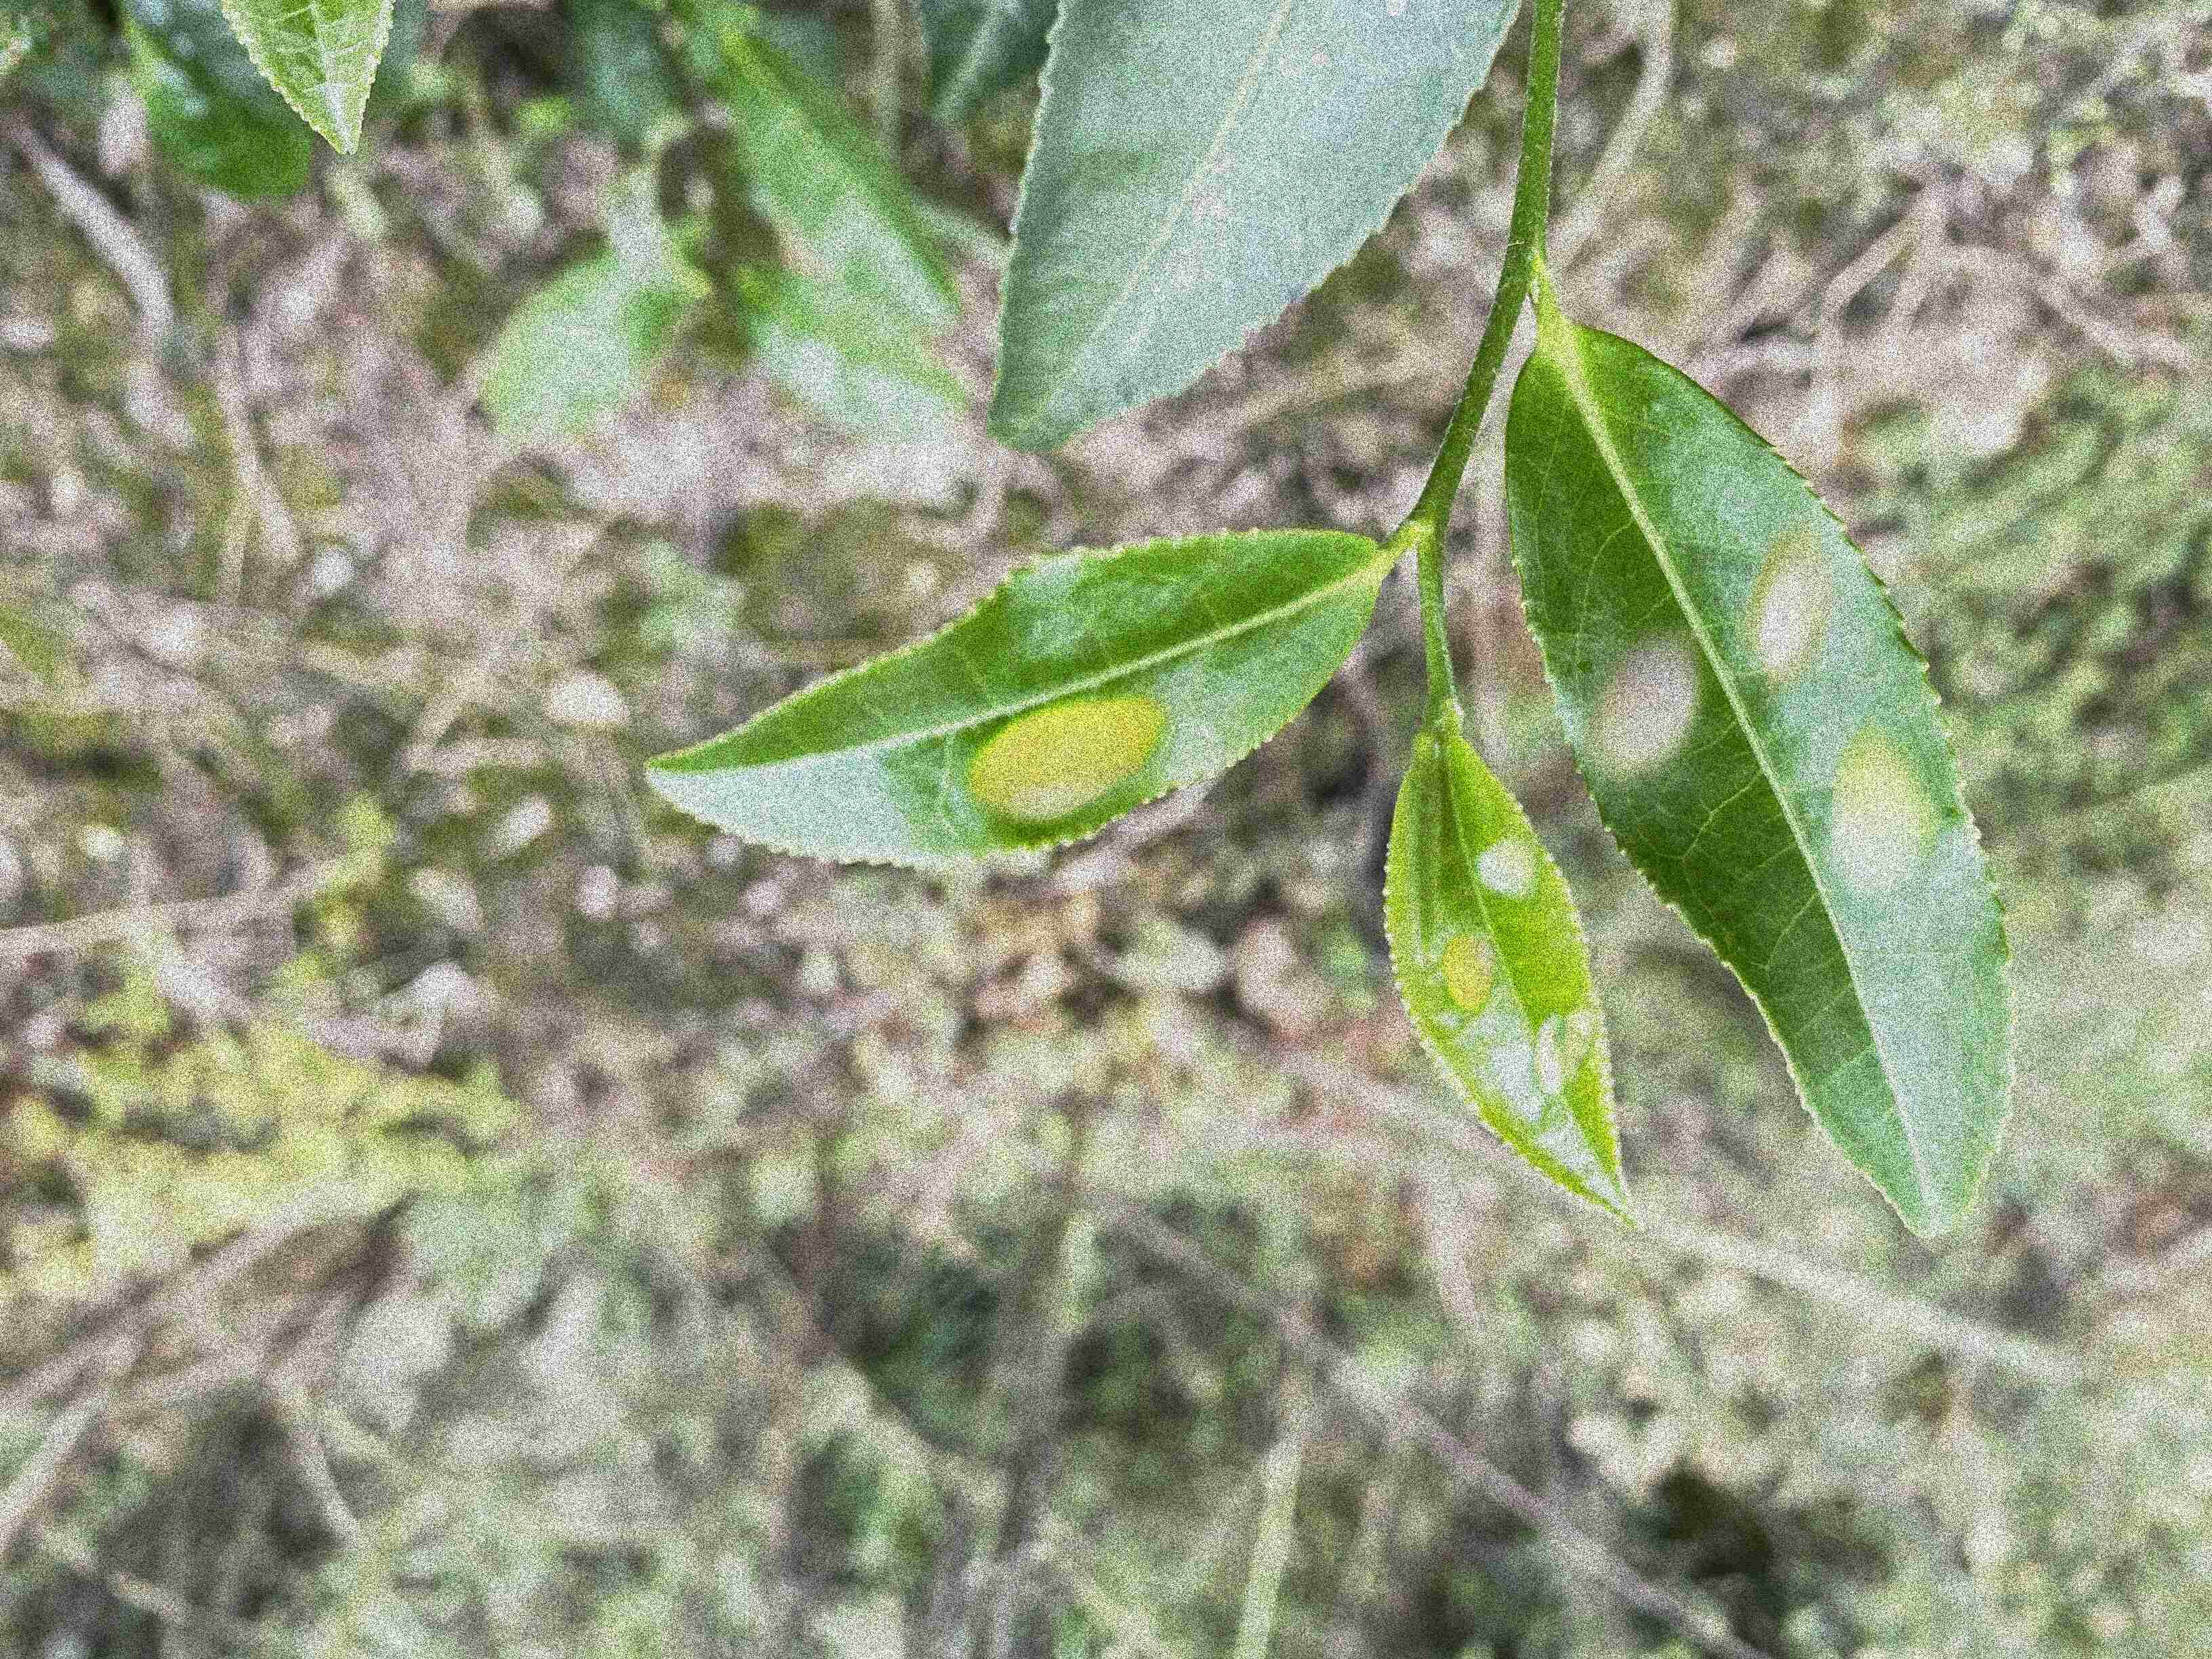chabing_high: (1500, 324, 2019, 1241), (1379, 725, 1648, 1232)
chabing_low: (644, 528, 1385, 871)
tanju_low: (984, 3, 1519, 453)
